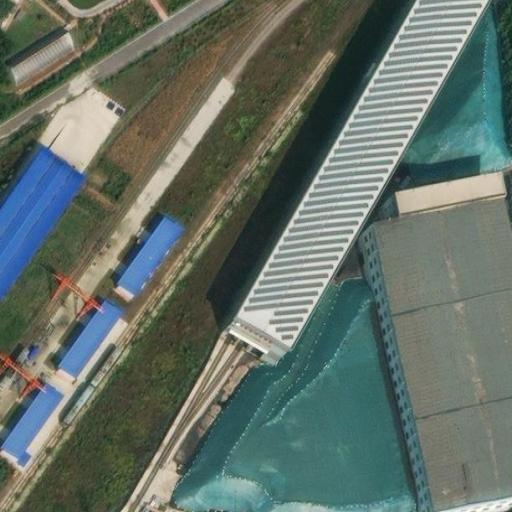building: (215, 0, 489, 367), (375, 165, 512, 505), (0, 374, 69, 458), (118, 209, 180, 287), (60, 293, 122, 369), (9, 21, 77, 74)
